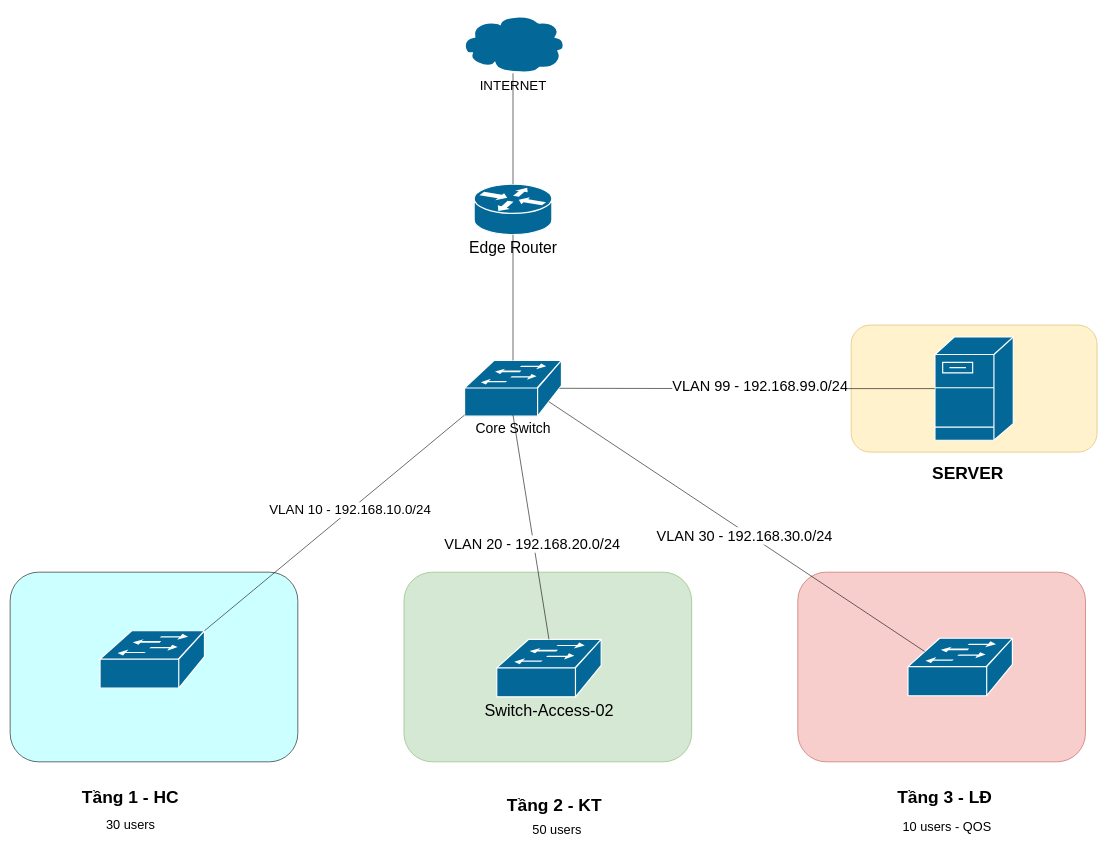
The diagram is 1107 pixels wide and 849 high, and some of its shapes have lost their labels. Here are the shapes that lost their labels. From the top down, the centre of each, then its label:
point 152,659: Switch-Access-01
point 960,666: Switch-Access-03
